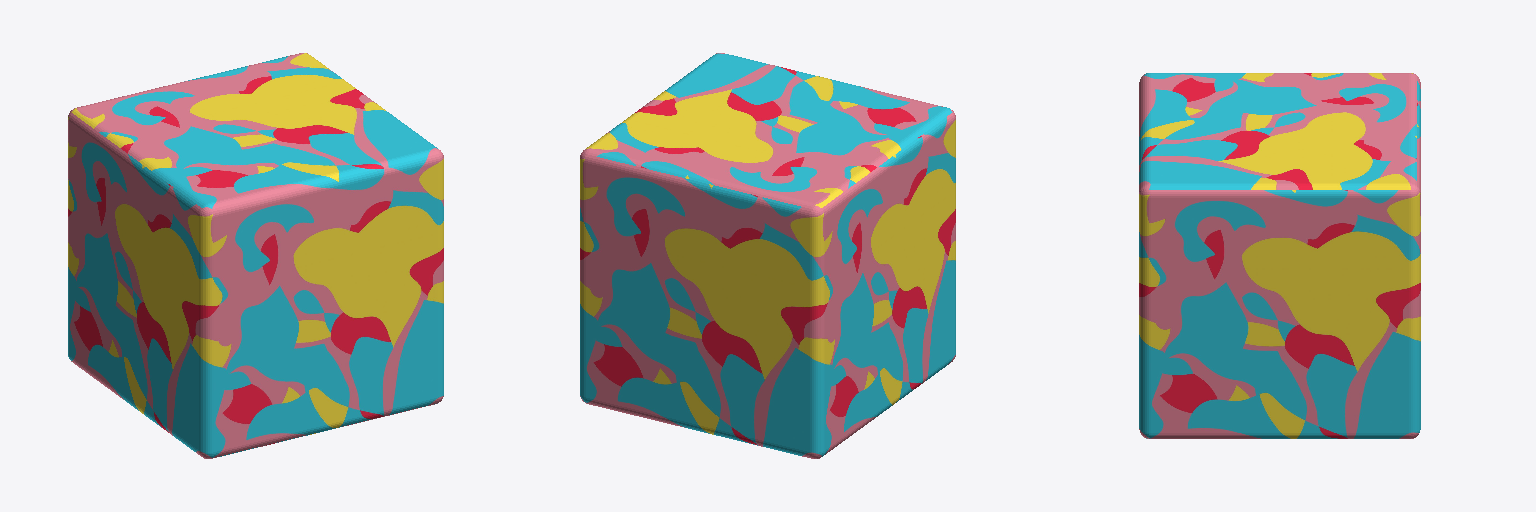
The picture shows the model from 3 angles: view 1: azimuth 30°, elevation 25°; view 2: azimuth 150°, elevation 25°; view 3: azimuth 270°, elevation 25°; orthographic projection.
Visible parts, largest first — view 1: 000_Box; view 2: 000_Box; view 3: 000_Box.
Boxes of the visible parts, <box> form: 000_Box: <box>68,53,443,458</box>; 000_Box: <box>580,53,955,458</box>; 000_Box: <box>1139,73,1420,438</box>.
Bounding box in the file's own units: 10 × 10 × 10.
1 materials, 1 textured.